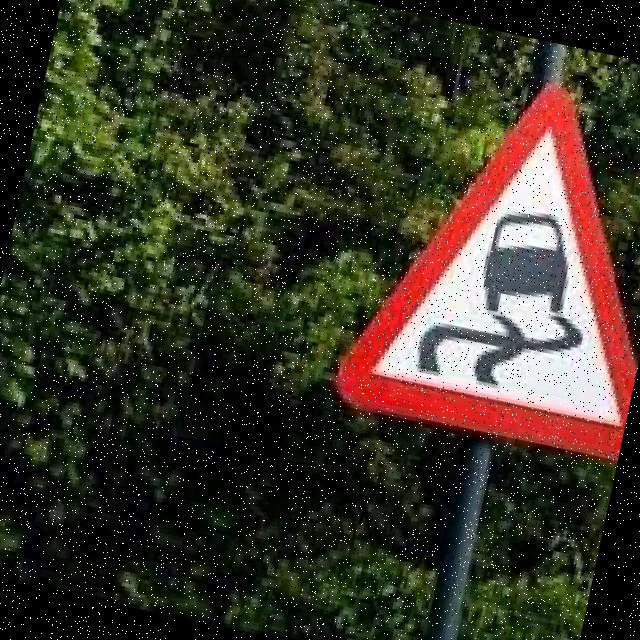road_slippery: (327, 52, 640, 467)
